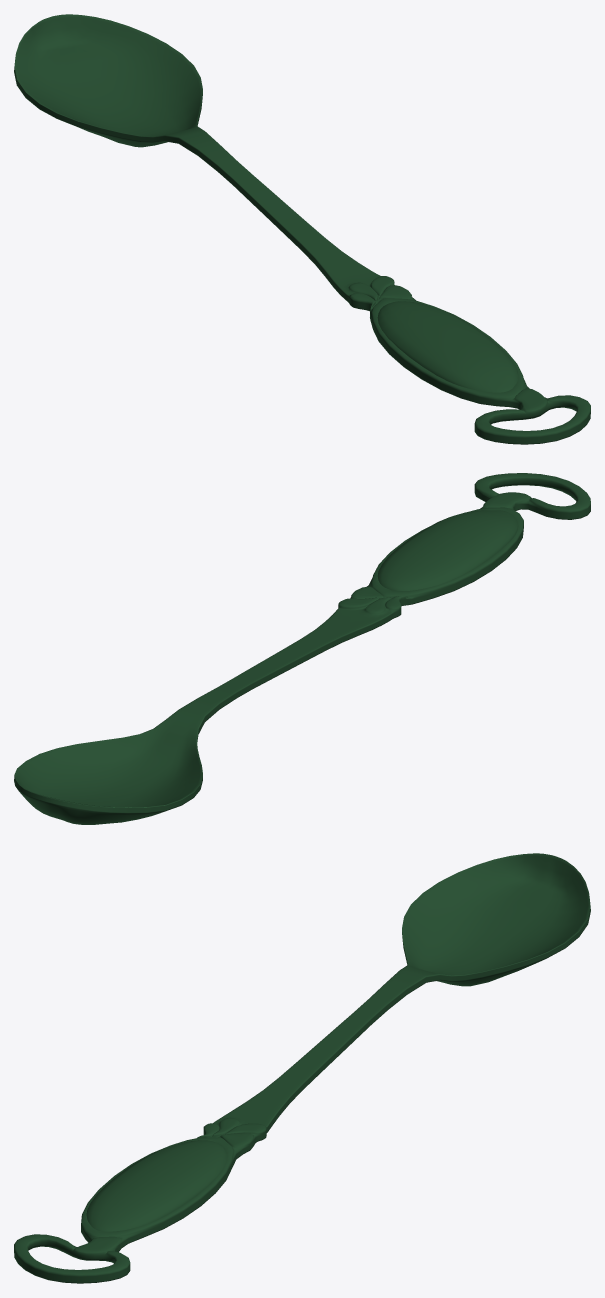
The model's file is spoon_V1.fbx.
3 views of the same model, one above another, from view 1: azimuth 30°, elevation 25°; view 2: azimuth 150°, elevation 25°; view 3: azimuth 330°, elevation 25° (orthographic).
Visible parts, largest first — view 1: spoon_GEO_001; view 2: spoon_GEO_001; view 3: spoon_GEO_001.
Part boxes in pixels (<box>): spoon_GEO_001: <box>14,14,590,444</box>; spoon_GEO_001: <box>14,473,590,824</box>; spoon_GEO_001: <box>14,853,590,1283</box>.
Bounding box in the file's own units: 2.95 × 1.05 × 16.5.
